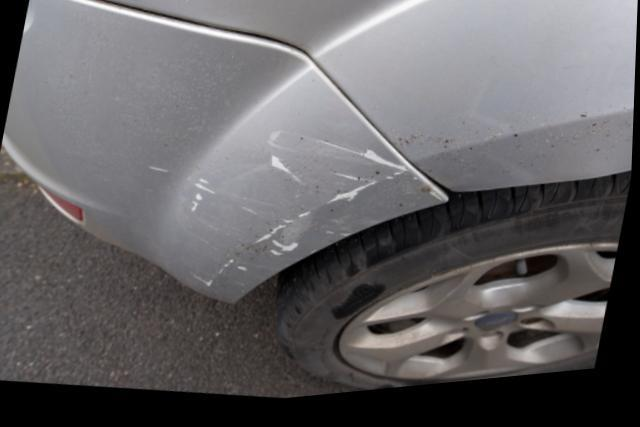scratch: (140, 134, 444, 297)
